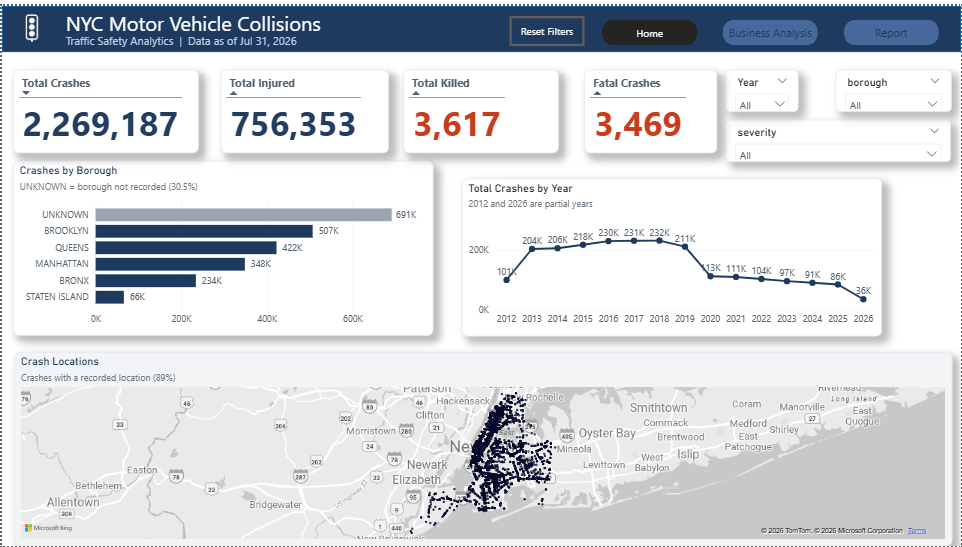

This screenshot's page, from the dashboard's own definition file:
{"tool":"powerbi","page":{"name":"Home","canvas":[1280,720],"ordinal":0},"visuals":[{"type":"shape","box":[0,0,1280,61.4],"z":0},{"type":"tableEx","fields":{"Values":["_Measures.Total injured"]},"box":[291.4,84.3,224.3,111.4],"z":1000},{"type":"tableEx","fields":{"Values":["_Measures.Total Killed"]},"box":[535.7,84.3,207.1,111.4],"z":2000},{"type":"tableEx","fields":{"Values":["_Measures.Fatal Crashes"]},"box":[777.1,84.3,177.1,111.4],"z":3000},{"type":"tableEx","fields":{"Values":["_Measures.Total Crashes"]},"box":[15.7,84.3,247.1,111.4],"z":4000},{"type":"lineChart","fields":{"Category":["DateTable.Year"],"Y":["_Measures.Total Crashes"]},"box":[612.9,230,560,210],"z":5000},{"type":"clusteredBarChart","title":"Crashes by Borough","fields":{"Category":["nyc_collisions vw_crashes.borough"],"Y":["_Measures.Total Crashes"]},"box":[15.7,207.1,560,232.9],"z":6000},{"type":"map","title":"Crash Locations","fields":{"Y":["nyc_collisions vw_crashes.latitude"],"X":["nyc_collisions vw_crashes.longitude"],"Size":["_Measures.Total Crashes"]},"box":[16.7,461.7,1250,258.3],"z":7000},{"type":"image","box":[15.7,2.9,50,50],"z":8000},{"type":"textbox","box":[80,0,520,51.4],"z":9000},{"type":"textbox","box":[80,31.4,520,30],"z":10000},{"type":"pageNavigator","box":[800,18,450,34],"z":11000},{"type":"slicer","fields":{"Values":["DateTable.Year"]},"box":[965.7,84.3,97.1,55.7],"z":12000},{"type":"slicer","fields":{"Values":["nyc_collisions vw_crashes.borough"]},"box":[1111.4,84.3,154.3,55.7],"z":13000},{"type":"slicer","fields":{"Values":["nyc_collisions vw_crashes.severity"]},"box":[965.7,151.4,300,55.7],"z":14000},{"type":"actionButton","box":[677.1,12.9,100,40],"z":15000}]}

Visuals, with their boxes in screenshot pixels (x1, y1, x2, y2), scaled from the page's 1280x720 canvas onto the 962x547 screenshot:
shape: bbox=[0, 0, 961, 47]
tableEx - _Measures.Total injured: bbox=[219, 64, 388, 149]
tableEx - _Measures.Total Killed: bbox=[403, 64, 558, 149]
tableEx - _Measures.Fatal Crashes: bbox=[584, 64, 717, 149]
tableEx - _Measures.Total Crashes: bbox=[12, 64, 198, 149]
lineChart - DateTable.Year x _Measures.Total Crashes: bbox=[461, 175, 882, 334]
"Crashes by Borough" clusteredBarChart: bbox=[12, 157, 433, 334]
"Crash Locations" map: bbox=[13, 351, 952, 546]
image: bbox=[12, 2, 49, 40]
textbox: bbox=[60, 0, 451, 39]
textbox: bbox=[60, 24, 451, 47]
pageNavigator: bbox=[601, 14, 939, 40]
slicer - DateTable.Year: bbox=[726, 64, 799, 106]
slicer - nyc_collisions vw_crashes.borough: bbox=[835, 64, 951, 106]
slicer - nyc_collisions vw_crashes.severity: bbox=[726, 115, 951, 157]
actionButton: bbox=[509, 10, 584, 40]
